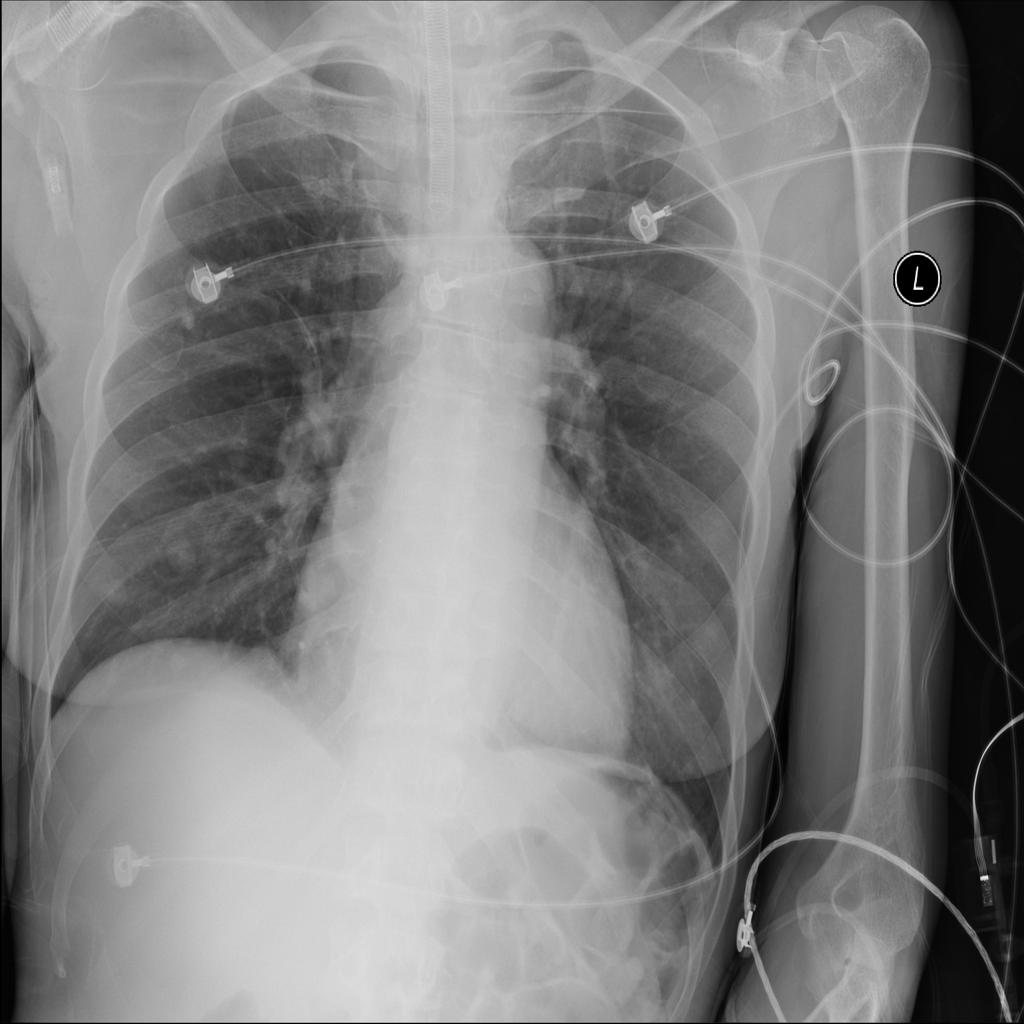nodule: (147, 517, 218, 589), (286, 553, 356, 624), (89, 565, 143, 613), (160, 293, 209, 344)
